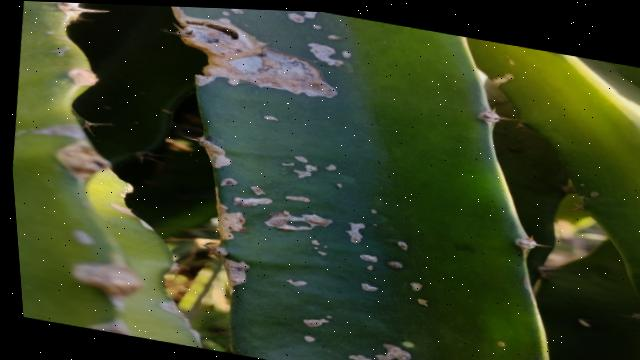stemcanker: (185, 96, 559, 353)
